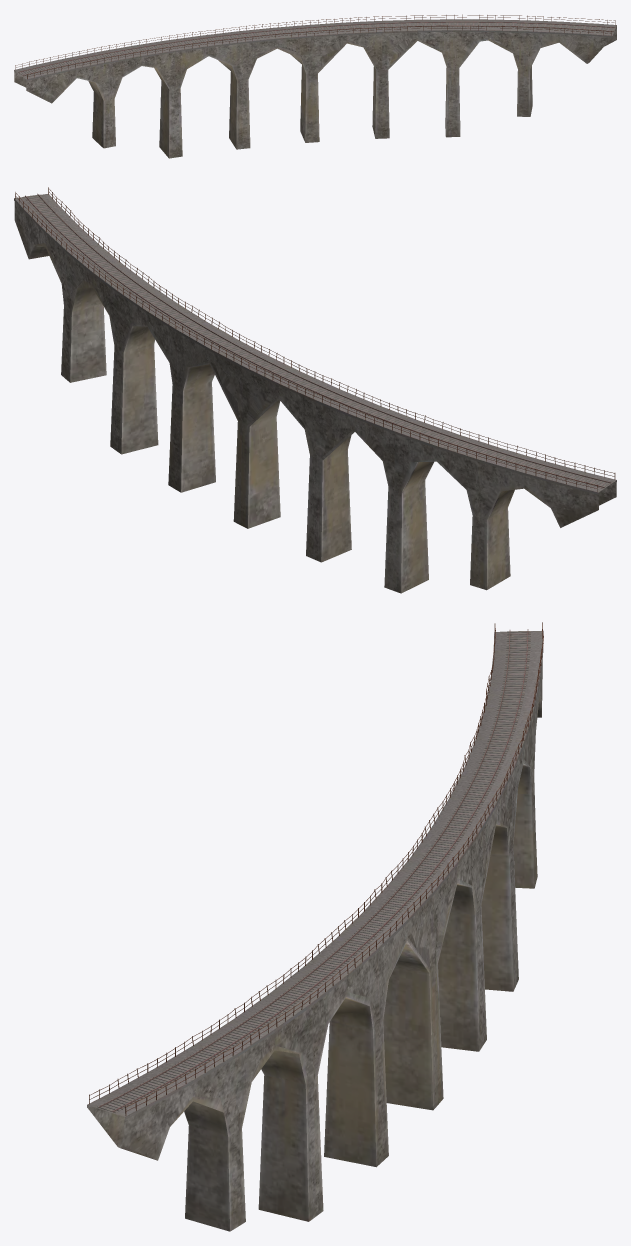
The model's file is bridge.glb.
3 views of the same model, one above another, from view 1: azimuth 30°, elevation 25°; view 2: azimuth 150°, elevation 25°; view 3: azimuth 270°, elevation 25° (orthographic). The views are drawn at different scales.
Parts seen in each view (by area): view 1: Object_4; view 2: Object_4; view 3: Object_4.
Part boxes in pixels (box(x1,y1,x2,y2)): Object_4: box(14, 14, 616, 158); Object_4: box(14, 187, 616, 593); Object_4: box(87, 622, 543, 1231).
Size of the model in its own units: 96.99 by 20.7 by 38.52.
Materials: 1 (1 with a texture image).
